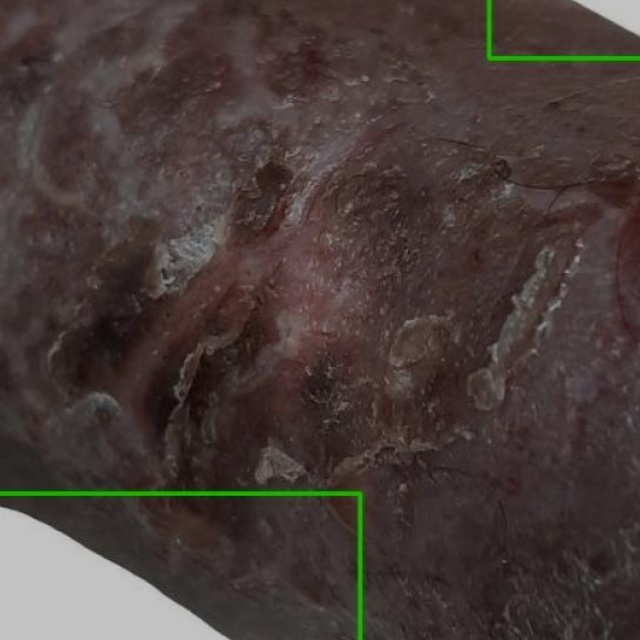Eczema: (0, 493, 360, 639)
